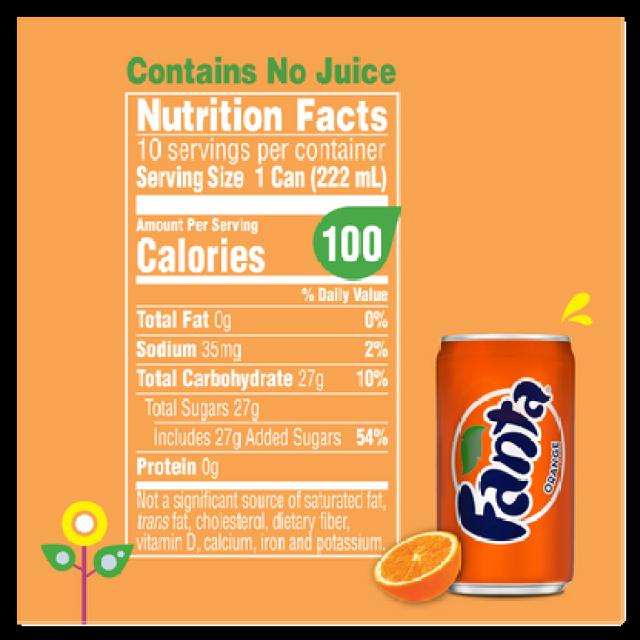fanta: (427, 326, 582, 585)
